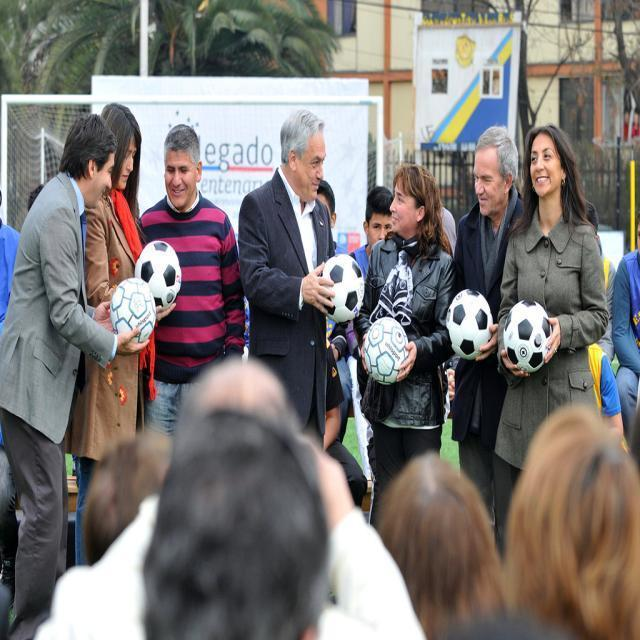ball: (136, 240, 186, 307), (506, 301, 551, 371), (109, 279, 156, 346), (322, 255, 368, 323), (447, 293, 497, 355), (365, 323, 410, 381)
